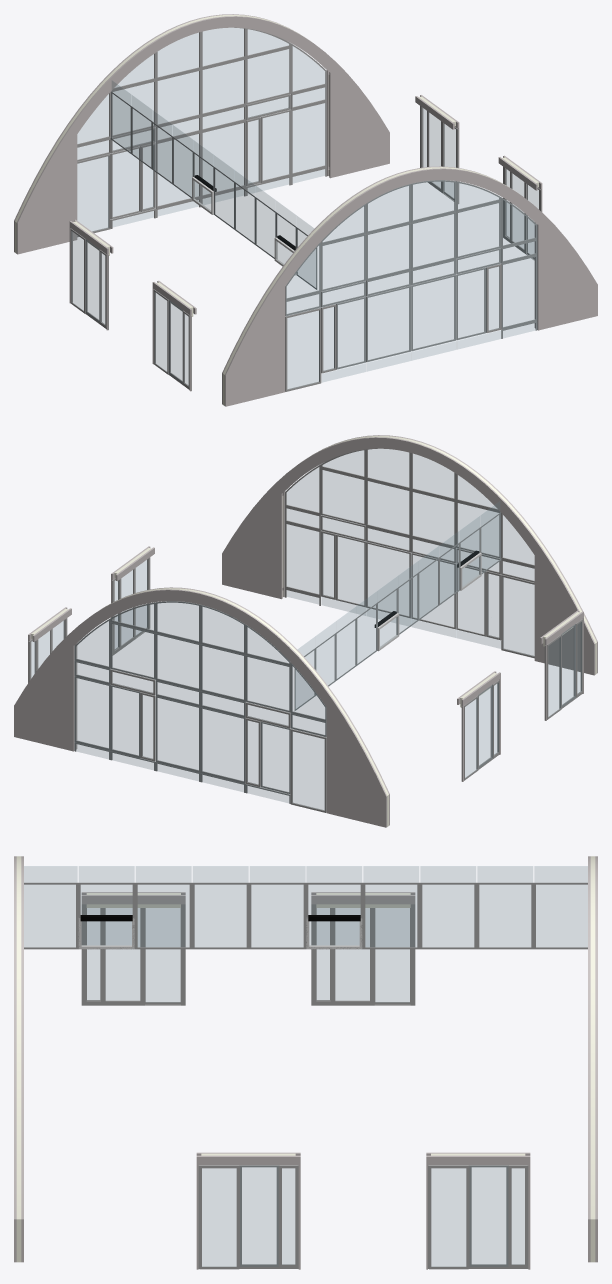
3 renders of one model, top to bottom at view 1: azimuth 30°, elevation 25°; view 2: azimuth 150°, elevation 25°; view 3: azimuth 270°, elevation 25°, orthographic. The views are drawn at different scales.
Bounding box in the file's own units: 13.11 × 6 × 12.21.
